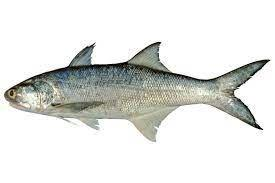Fourfinger Threadfish: (4, 41, 272, 142)
